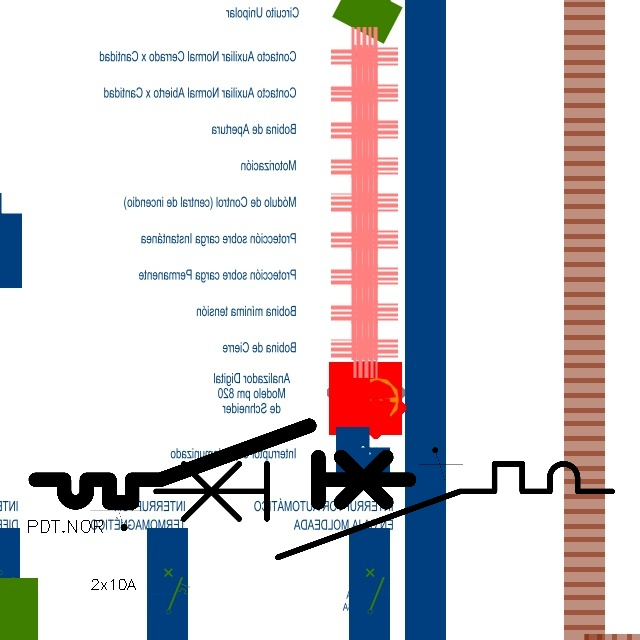interruptor_termomagnetico: (144, 452, 624, 569), (26, 416, 418, 512)
